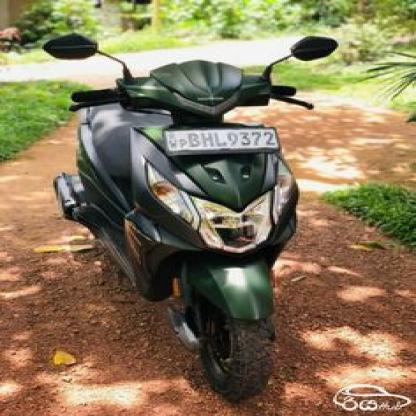bike front: (33, 29, 338, 404)
number plate: (158, 130, 282, 154)
